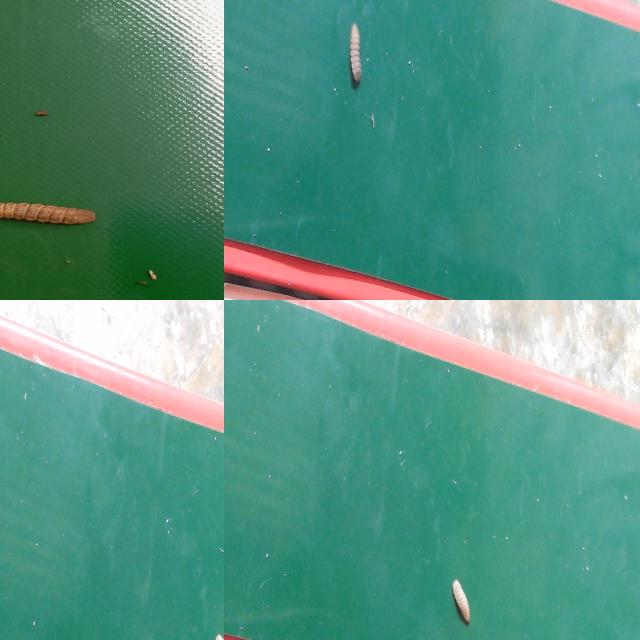Maggot: (0, 203, 98, 228), (342, 21, 367, 93), (452, 582, 473, 627)
